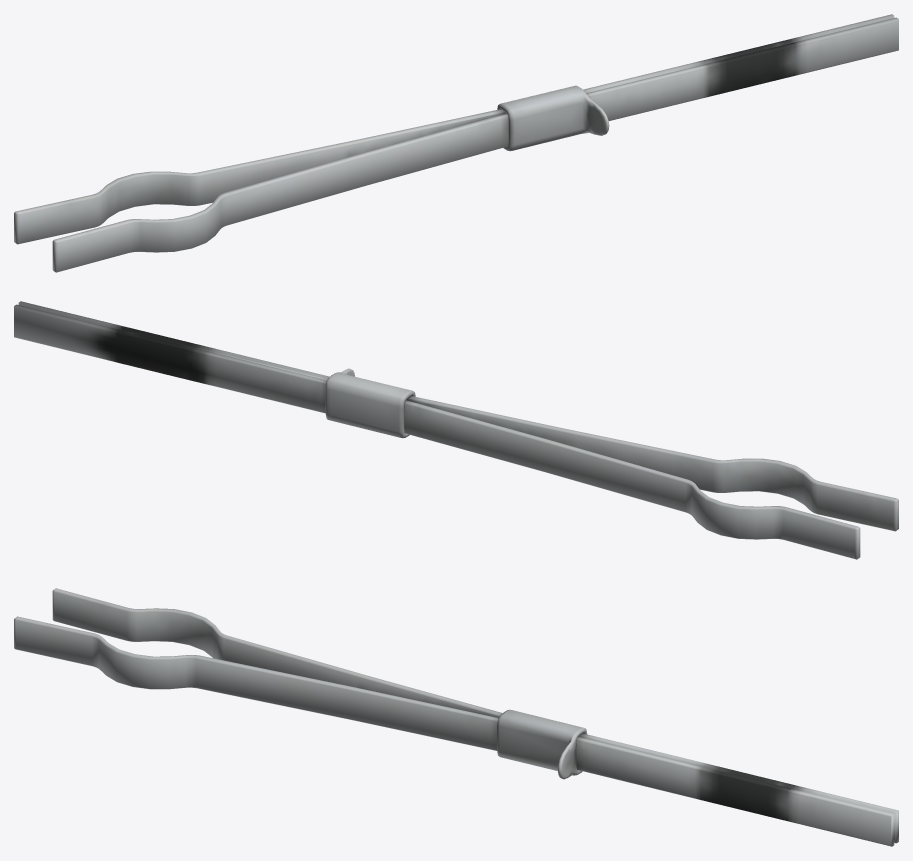
File: clamp.glb
The picture shows the model from 3 angles, top to bottom: view 1: azimuth 30°, elevation 25°; view 2: azimuth 150°, elevation 25°; view 3: azimuth 330°, elevation 25°; orthographic projection.
Parts seen in each view (by area): view 1: chemistry_set_clamp.001; view 2: chemistry_set_clamp.001; view 3: chemistry_set_clamp.001.
Part boxes in pixels (x1=…): chemistry_set_clamp.001: x1=14, y1=14, x2=898, y2=272; chemistry_set_clamp.001: x1=14, y1=301, x2=898, y2=559; chemistry_set_clamp.001: x1=14, y1=588, x2=898, y2=846.
Size of the model in its own units: 0.1423 by 0.00688 by 0.0173.
Materials: 1 (1 with a texture image).
